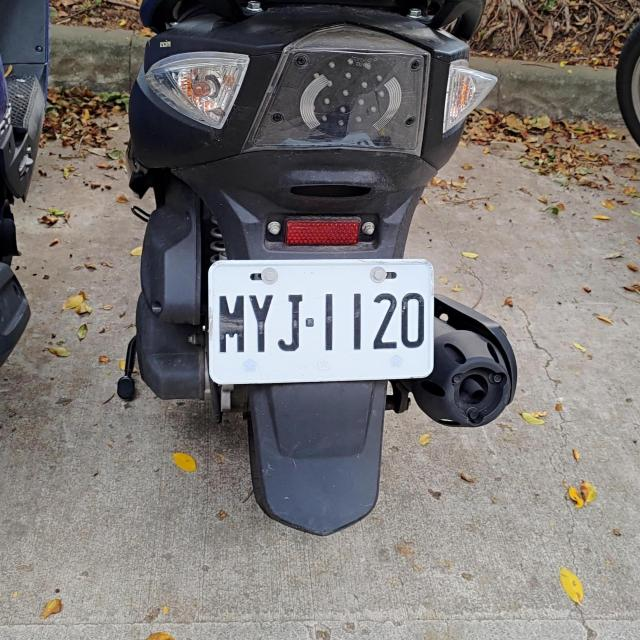W: (207, 257, 432, 382)
